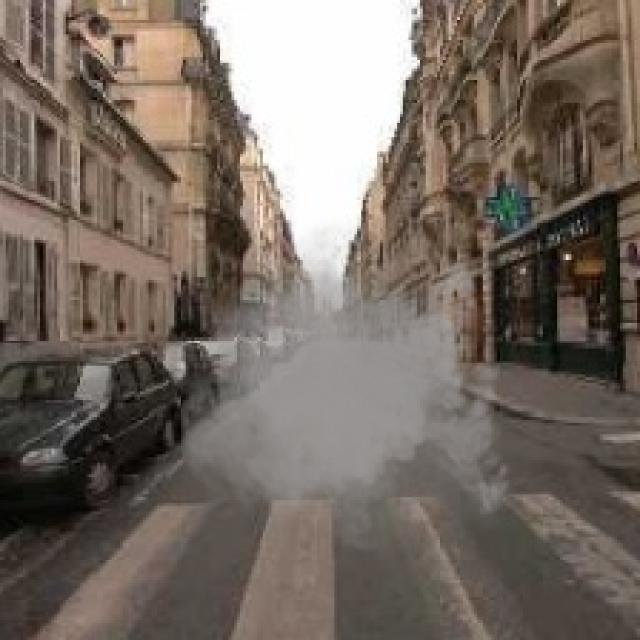smoke: (174, 206, 520, 568)
